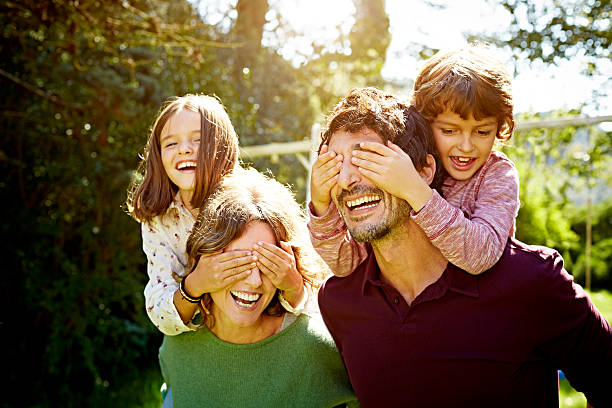without mask: (318, 95, 413, 251), (144, 101, 233, 200), (199, 226, 288, 325), (426, 84, 515, 183)
